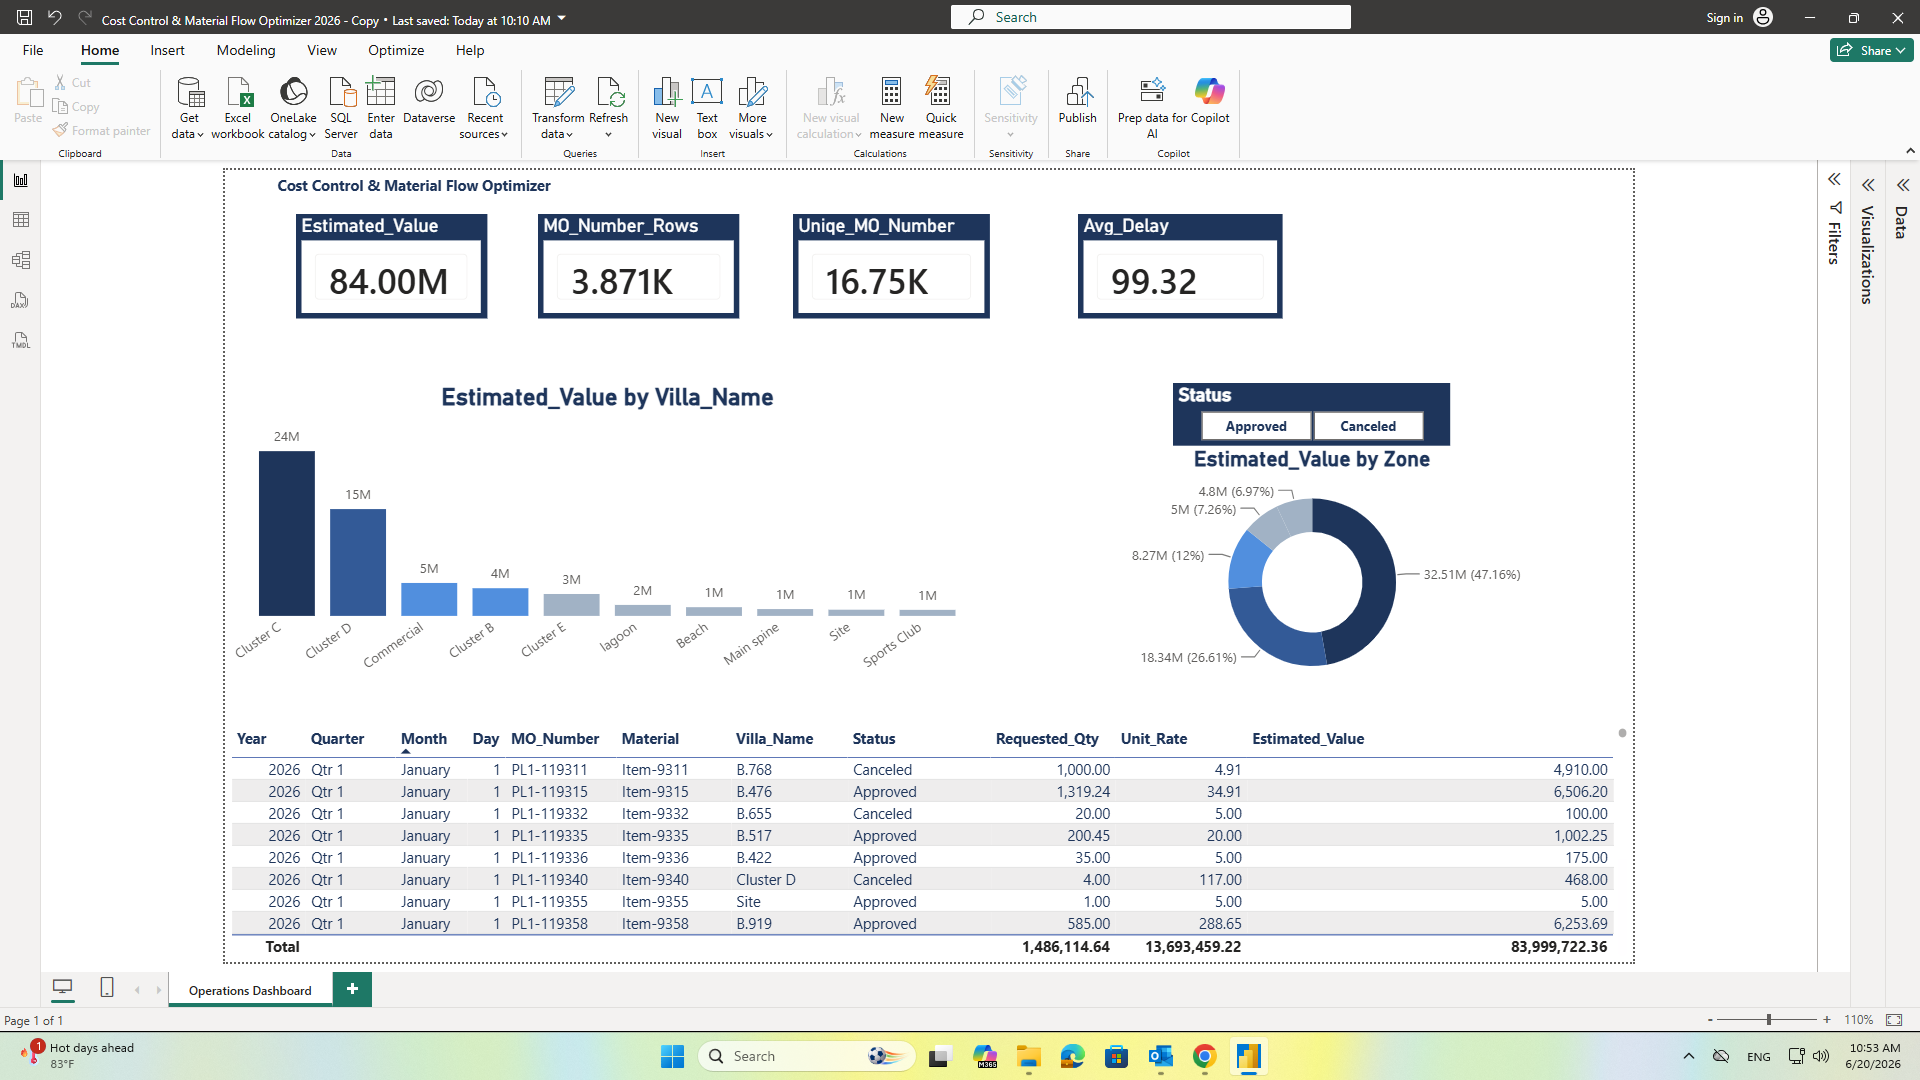

This screenshot's page, from the dashboard's own definition file:
{"tool":"powerbi","page":{"name":"Operations Dashboard","canvas":[1280,720],"ordinal":0},"visuals":[{"type":"tableEx","fields":{"Values":["last_compare 2026 up to 30-4-2026.Request_Date.Variation.Date Hierarchy.Year","last_compare 2026 up to 30-4-2026.Request_Date.Variation.Date Hierarchy.Quarter","last_compare 2026 up to 30-4-2026.Request_Date.Variation.Date Hierarchy.Month","last_compare 2026 up to 30-4-2026.Request_Date.Variation.Date Hierarchy.Day","last_compare 2026 up to 30-4-2026.MO_Number","last_compare 2026 up to 30-4-2026.Material","last_compare 2026 up to 30-4-2026.Villa_Name","last_compare 2026 up to 30-4-2026.Status","Sum(last_compare 2026 up to 30-4-2026.Requested_Qty)","Sum(last_compare 2026 up to 30-4-2026.Unit_Rate)","Sum(last_compare 2026 up to 30-4-2026.Estimated_Value)"]},"box":[0,501.9,1280,217.9],"z":0},{"type":"cardVisual","title":"MO_Number_Rows","fields":{"Data":["Count(last_compare 2026 up to 30-4-2026.MO_Number)"]},"box":[284.8,40.4,183.3,95.3],"z":1000},{"type":"cardVisual","title":"Uniqe_MO_Number","fields":{"Data":["CountNonNull(last_compare 2026 up to 30-4-2026.MO_Number)"]},"box":[516.8,40.4,179.2,95.3],"z":2000},{"type":"donutChart","fields":{"Category":["last_compare 2026 up to 30-4-2026.Zone"],"Y":["Sum(last_compare 2026 up to 30-4-2026.Estimated_Value)"]},"box":[695.9,250.6,584.1,225.8],"z":3000},{"type":"slicer","title":"Status","fields":{"Values":["last_compare 2026 up to 30-4-2026.Status"]},"box":[861.6,193.7,251.7,57],"z":4000},{"type":"clusteredColumnChart","fields":{"Category":["last_compare 2026 up to 30-4-2026.Villa_Name"],"Y":["Sum(last_compare 2026 up to 30-4-2026.Estimated_Value)"]},"box":[0,193.7,695.9,282.7],"z":5000},{"type":"cardVisual","title":"Estimated_Value","fields":{"Data":["Sum(last_compare 2026 up to 30-4-2026.Estimated_Value)"]},"box":[64.2,40.4,174,95.3],"z":6000},{"type":"actionButton","box":[0,0,100,40],"z":7000},{"type":"cardVisual","title":"Avg_Delay","fields":{"Data":["last_compare 2026 up to 30-4-2026.Avg_Delay"]},"box":[775.7,40.4,186.4,95.3],"z":8000},{"type":"textbox","box":[42.8,0,1237.2,32.1],"z":9000}]}

Visuals, with their boxes on the page's 1280x720 design canvas (x1, y1, x2, y2). These are canvas units, not pixel positions in the 1920x1080 screenshot, which may show the page scaled, cropped or inside an application window:
tableEx - last_compare 2026 up to 30-4-2026.Request_Date.Variation.Date Hierarchy.Year x last_compare 2026 up to 30-4-2026.Request_Date.Variation.Date Hierarchy.Quarter: <bbox>0, 502, 1280, 720</bbox>
"MO_Number_Rows" cardVisual: <bbox>285, 40, 468, 136</bbox>
"Uniqe_MO_Number" cardVisual: <bbox>517, 40, 696, 136</bbox>
donutChart - last_compare 2026 up to 30-4-2026.Zone x Sum(last_compare 2026 up to 30-4-2026.Estimated_Value): <bbox>696, 251, 1280, 476</bbox>
"Status" slicer: <bbox>862, 194, 1113, 251</bbox>
clusteredColumnChart - last_compare 2026 up to 30-4-2026.Villa_Name x Sum(last_compare 2026 up to 30-4-2026.Estimated_Value): <bbox>0, 194, 696, 476</bbox>
"Estimated_Value" cardVisual: <bbox>64, 40, 238, 136</bbox>
actionButton: <bbox>0, 0, 100, 40</bbox>
"Avg_Delay" cardVisual: <bbox>776, 40, 962, 136</bbox>
textbox: <bbox>43, 0, 1280, 32</bbox>
